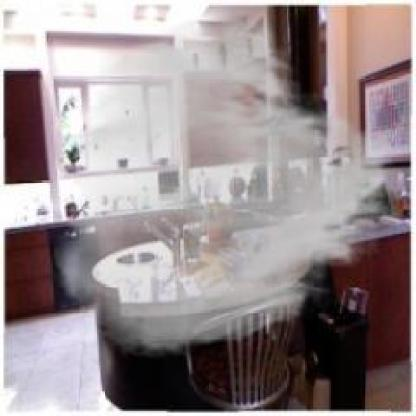Smoke: (50, 14, 413, 360)
